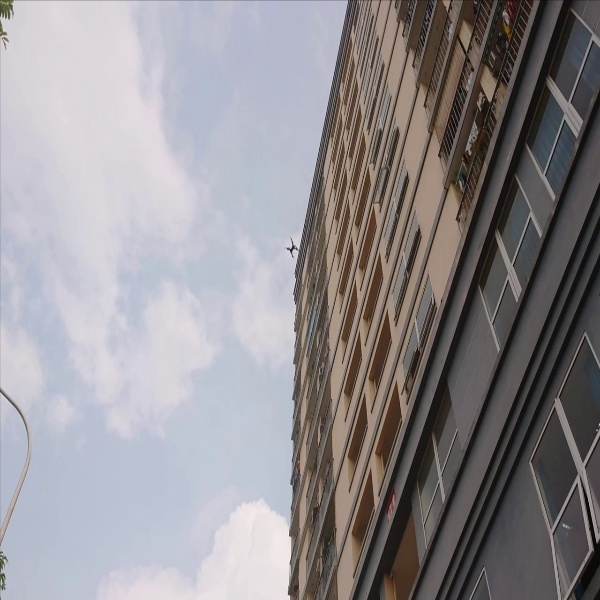drone: (283, 232, 300, 259)
